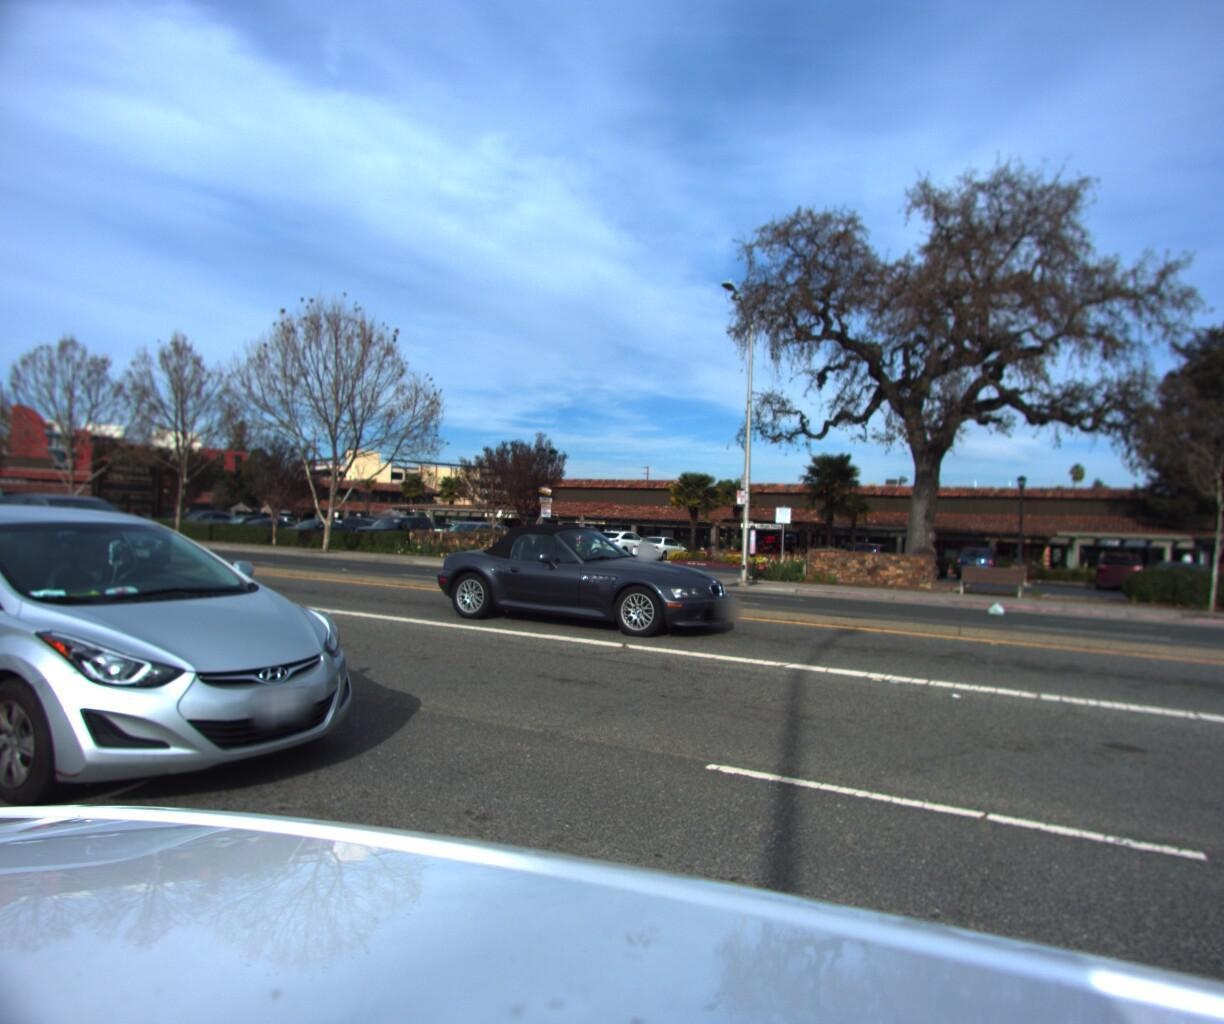car: (0, 490, 404, 844), (423, 514, 750, 639), (0, 492, 200, 575)
